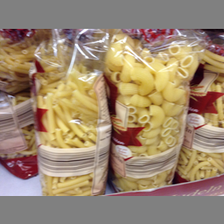pasta: (105, 29, 204, 192), (29, 30, 112, 196)
